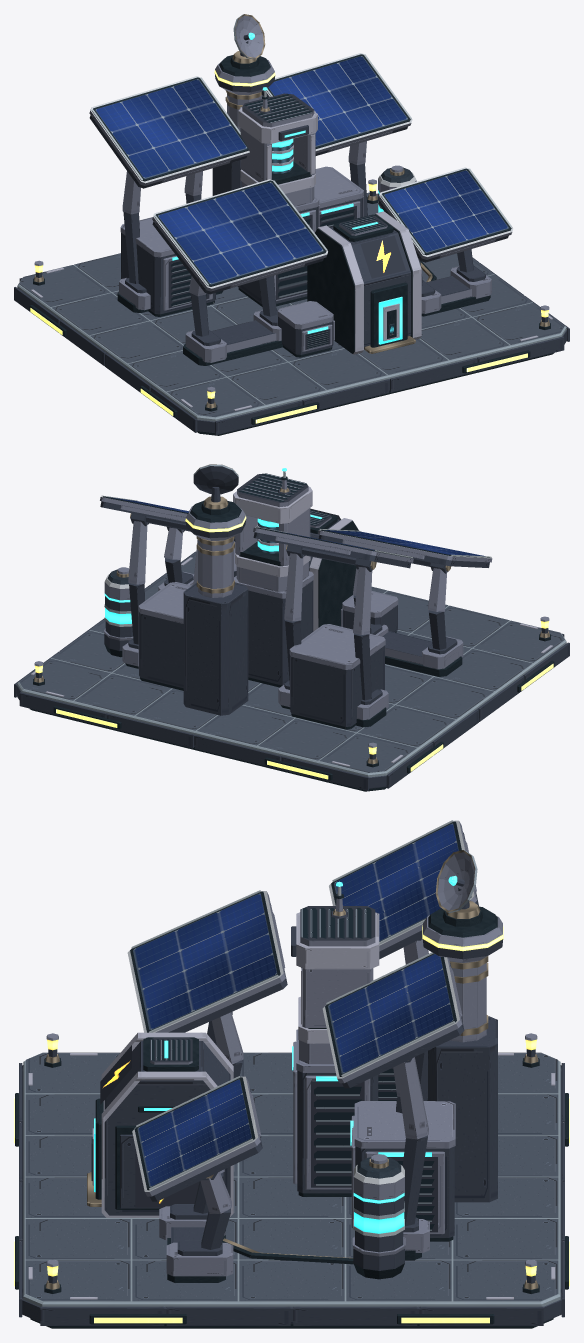
The model's file is PS03_PlantaSolarAvanzada_Distancia.fbx.
3 renders of one model, top to bottom at view 1: azimuth 30°, elevation 25°; view 2: azimuth 150°, elevation 25°; view 3: azimuth 270°, elevation 25°, orthographic. The views are drawn at different scales.
Visible parts, largest first — view 1: PlantaSolarDistante_3; view 2: PlantaSolarDistante_3; view 3: PlantaSolarDistante_3.
Boxes of the visible parts, box(x1,y1,x2,y2) form: PlantaSolarDistante_3: box(14, 14, 569, 435); PlantaSolarDistante_3: box(14, 464, 569, 791); PlantaSolarDistante_3: box(14, 820, 569, 1328).
Size of the model in its own units: 7.08 by 4.64 by 6.44.
